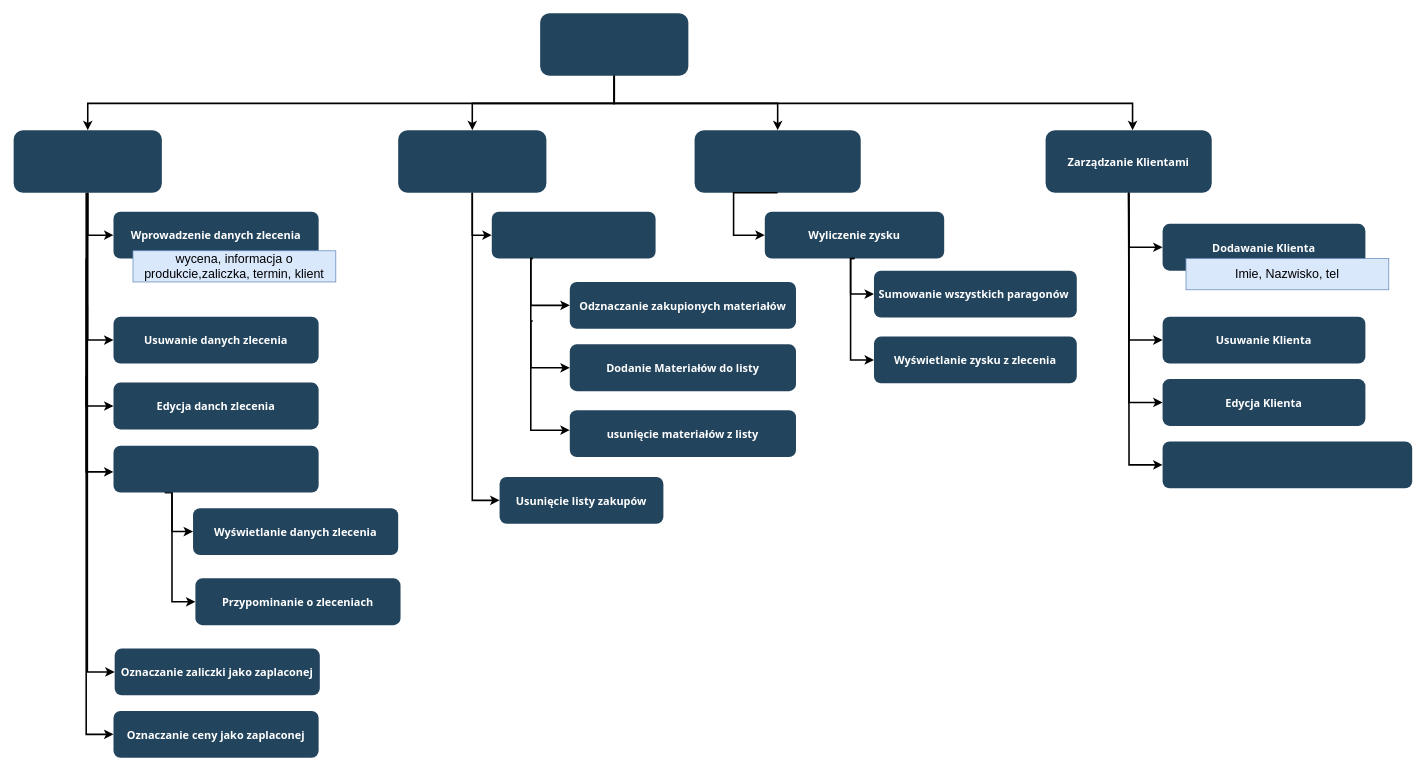
Some shapes in this 1425 by 771 pixel diagram are drawn without their labels. The shapes that lost their labels are listed below. From the top down, each one's centre as x and y in pixels, then its label:
point 614,44: Stolarz
point 87,161: Zlecenia
point 472,161: Lista zakupów
point 777,161: Finanse
point 573,234: Stworzenie listy zakupów
point 215,468: Terminarz
point 1287,464: Oznaczenie klienta jako problematyczny
